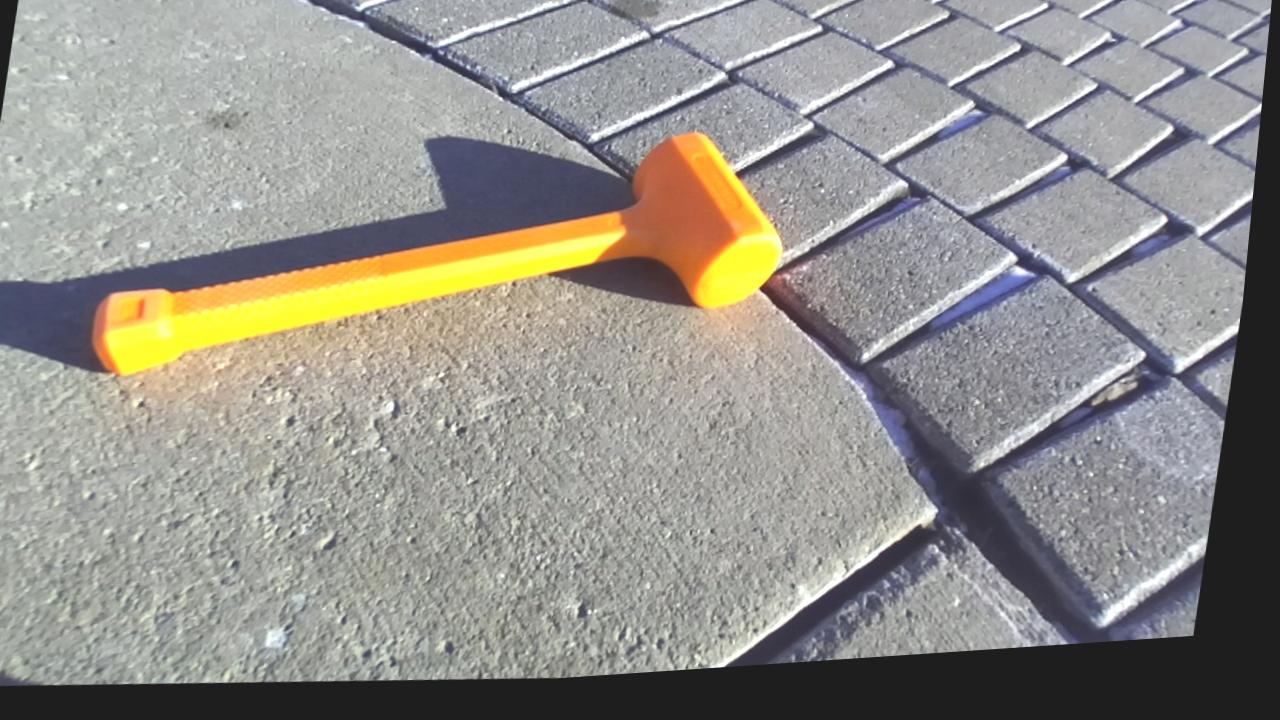mallet: (92, 133, 781, 373)
